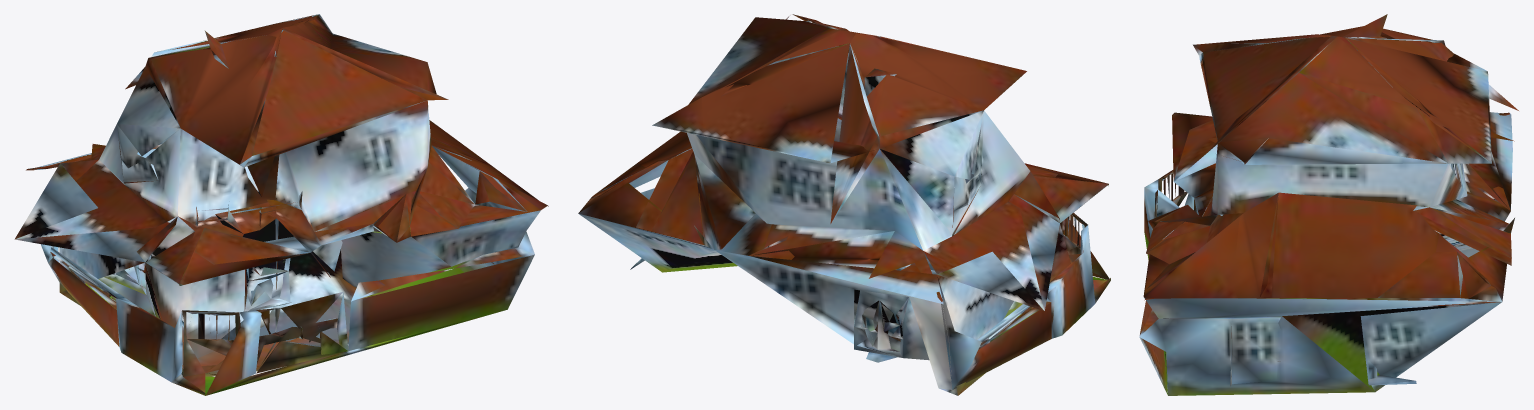
File: house-sky-far.glb
3 renders of one model, left to right at view 1: azimuth 30°, elevation 25°; view 2: azimuth 150°, elevation 25°; view 3: azimuth 270°, elevation 25°, orthographic. The views are drawn at different scales.
Parts seen in each view (by area): view 1: house-far; view 2: house-far; view 3: house-far.
Boxes of the visible parts, bbox=[...] form: house-far: bbox=[14, 14, 548, 395]; house-far: bbox=[578, 14, 1110, 395]; house-far: bbox=[1139, 14, 1518, 395].
Bounding box in the file's own units: 12.24 × 7.6 × 9.12.
Materials: 1 (1 with a texture image).
